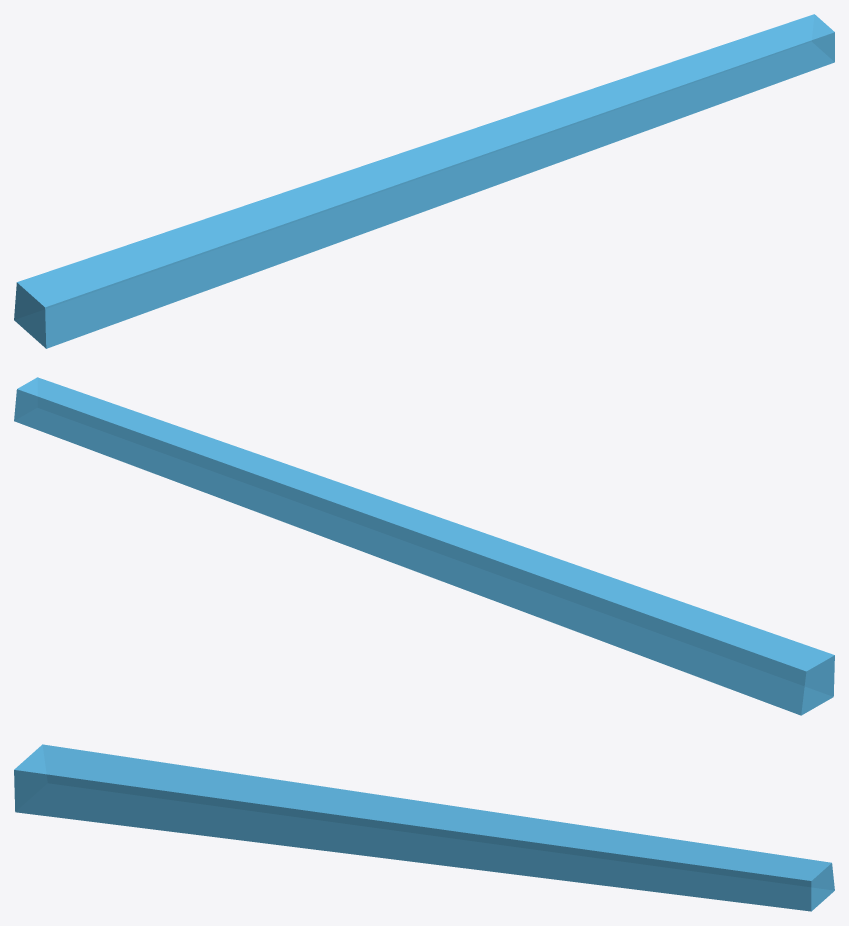
Rendered from Event_421115418_HErechit_34.fbx.
The picture shows the model from 3 angles, top to bottom: view 1: azimuth 30°, elevation 25°; view 2: azimuth 150°, elevation 25°; view 3: azimuth 330°, elevation 25°; orthographic projection.
Parts seen in each view (by area): view 1: Model; view 2: Model; view 3: Model.
Part boxes in pixels (x1=…): Model: x1=14, y1=14, x2=834, y2=348; Model: x1=14, y1=377, x2=834, y2=715; Model: x1=14, y1=744, x2=834, y2=911.
Bounding box in the file's own units: 3.94 × 0.6086 × 0.2793.
